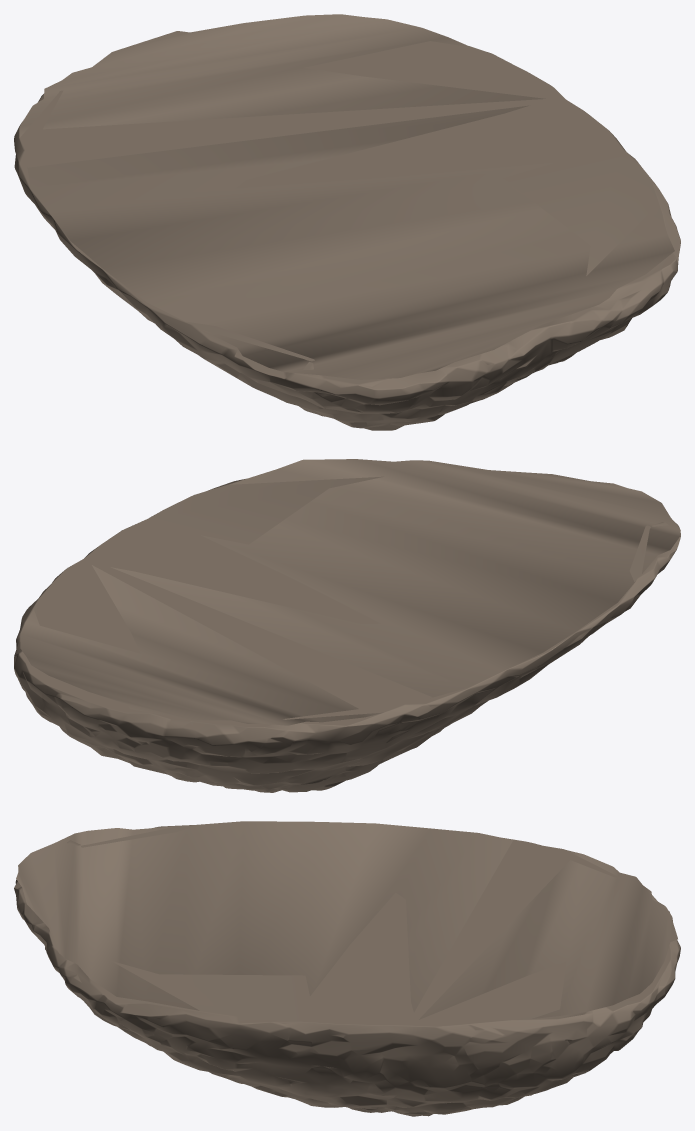
Rendered from IlhaG2.fbx.
3 renders of one model, top to bottom at view 1: azimuth 30°, elevation 25°; view 2: azimuth 150°, elevation 25°; view 3: azimuth 270°, elevation 25°, orthographic. The views are drawn at different scales.
Visible parts, largest first — view 1: IlhaG2Colisor, IlhaG2; view 2: IlhaG2Colisor, IlhaG2; view 3: IlhaG2Colisor, IlhaG2.
Boxes of the visible parts, box(x1,y1,x2,y2) form: IlhaG2Colisor: box(19, 14, 674, 379); IlhaG2: box(14, 41, 680, 430); IlhaG2Colisor: box(20, 459, 680, 725); IlhaG2: box(14, 476, 680, 792); IlhaG2Colisor: box(16, 821, 677, 1019); IlhaG2: box(14, 825, 680, 1116).
Bounding box in the file's own units: 6270 × 2272 × 8464.
